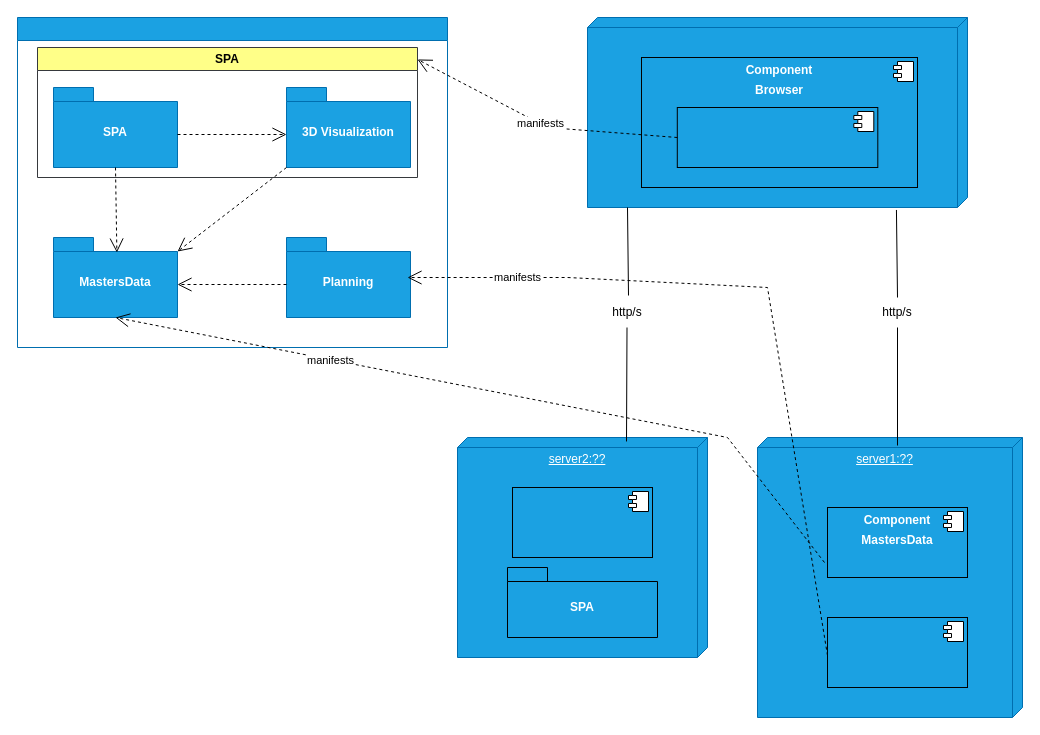
This 1040x735 diagram has some shape labels left out. The box of each missing label's shape, as (x1, y1, x2, y2) in pixels:
Component HTTP Server: (512, 486, 652, 558)
Component Planning: (826, 616, 968, 688)
Component SPA: (676, 106, 878, 168)
localhost:??: (586, 16, 968, 208)
SARM: (16, 16, 448, 348)
